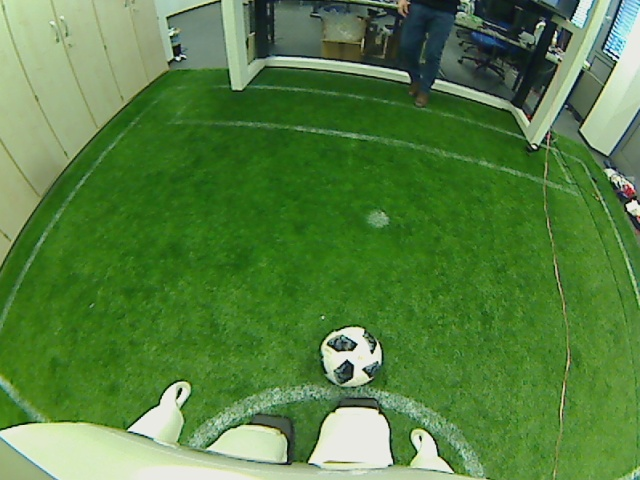ball: (317, 324, 384, 389)
